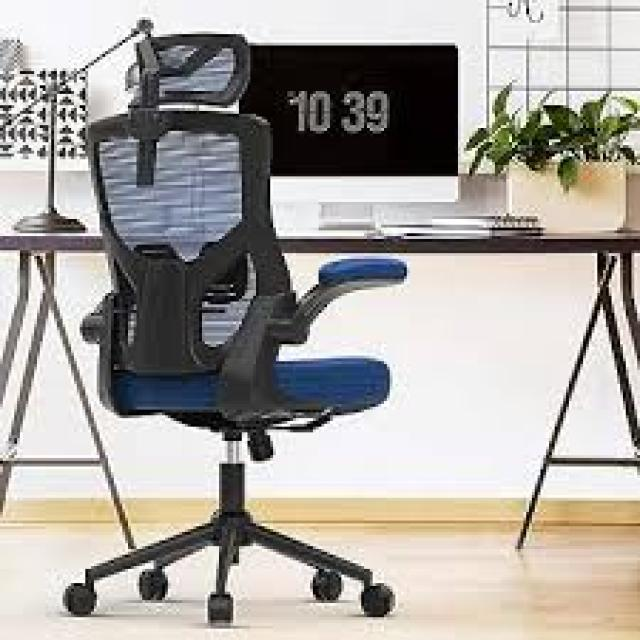chair: (23, 17, 407, 640)
